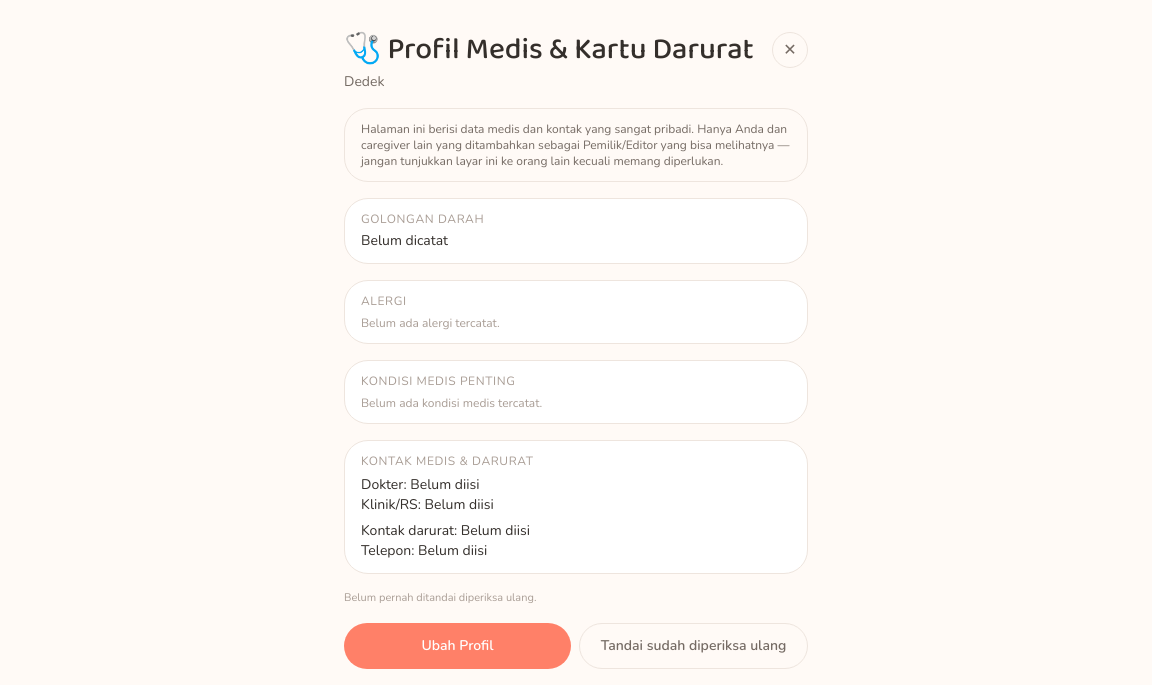
MedicalProfileScreen — Owner/Editor workflow › marks the profile as reviewed via the dedicated review action
This screenshot has width=1152, height=685.
Click the button "Tandai sudah diperiksa ulang" at (694, 646), box x1=579 y1=622 x2=808 y2=668
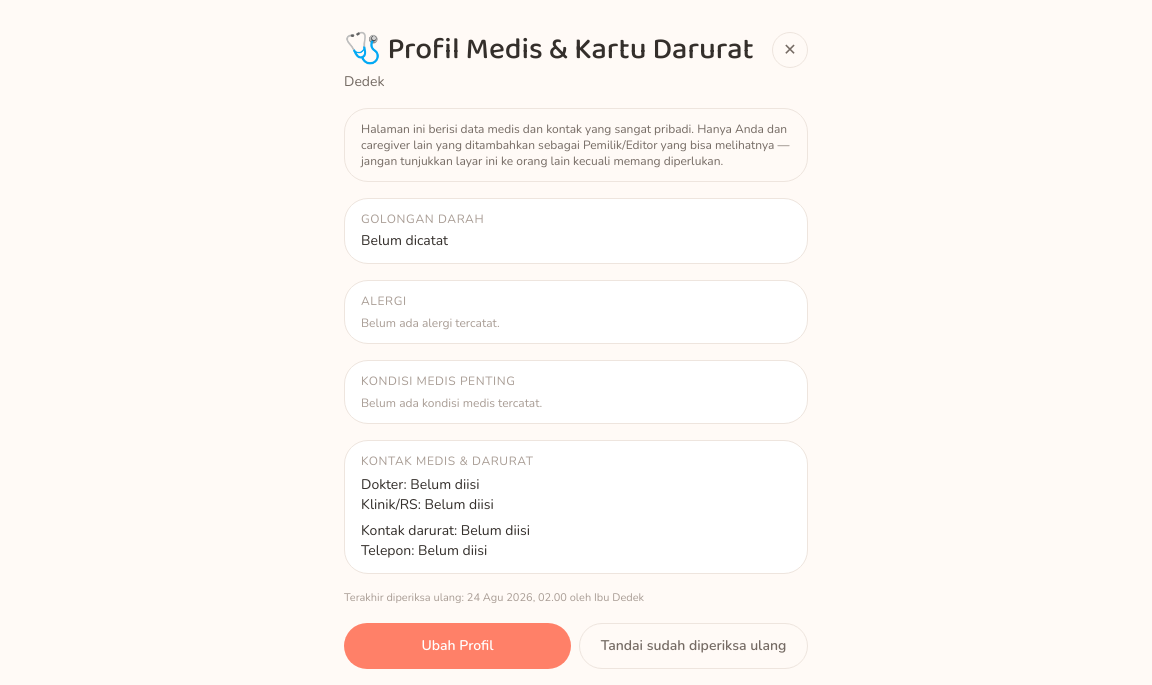
Check: the text "Terakhir diperiksa ulang: 24 Agu 2026, 02.00 oleh Ibu Dedek" is shown, box x1=344 y1=590 x2=644 y2=605
